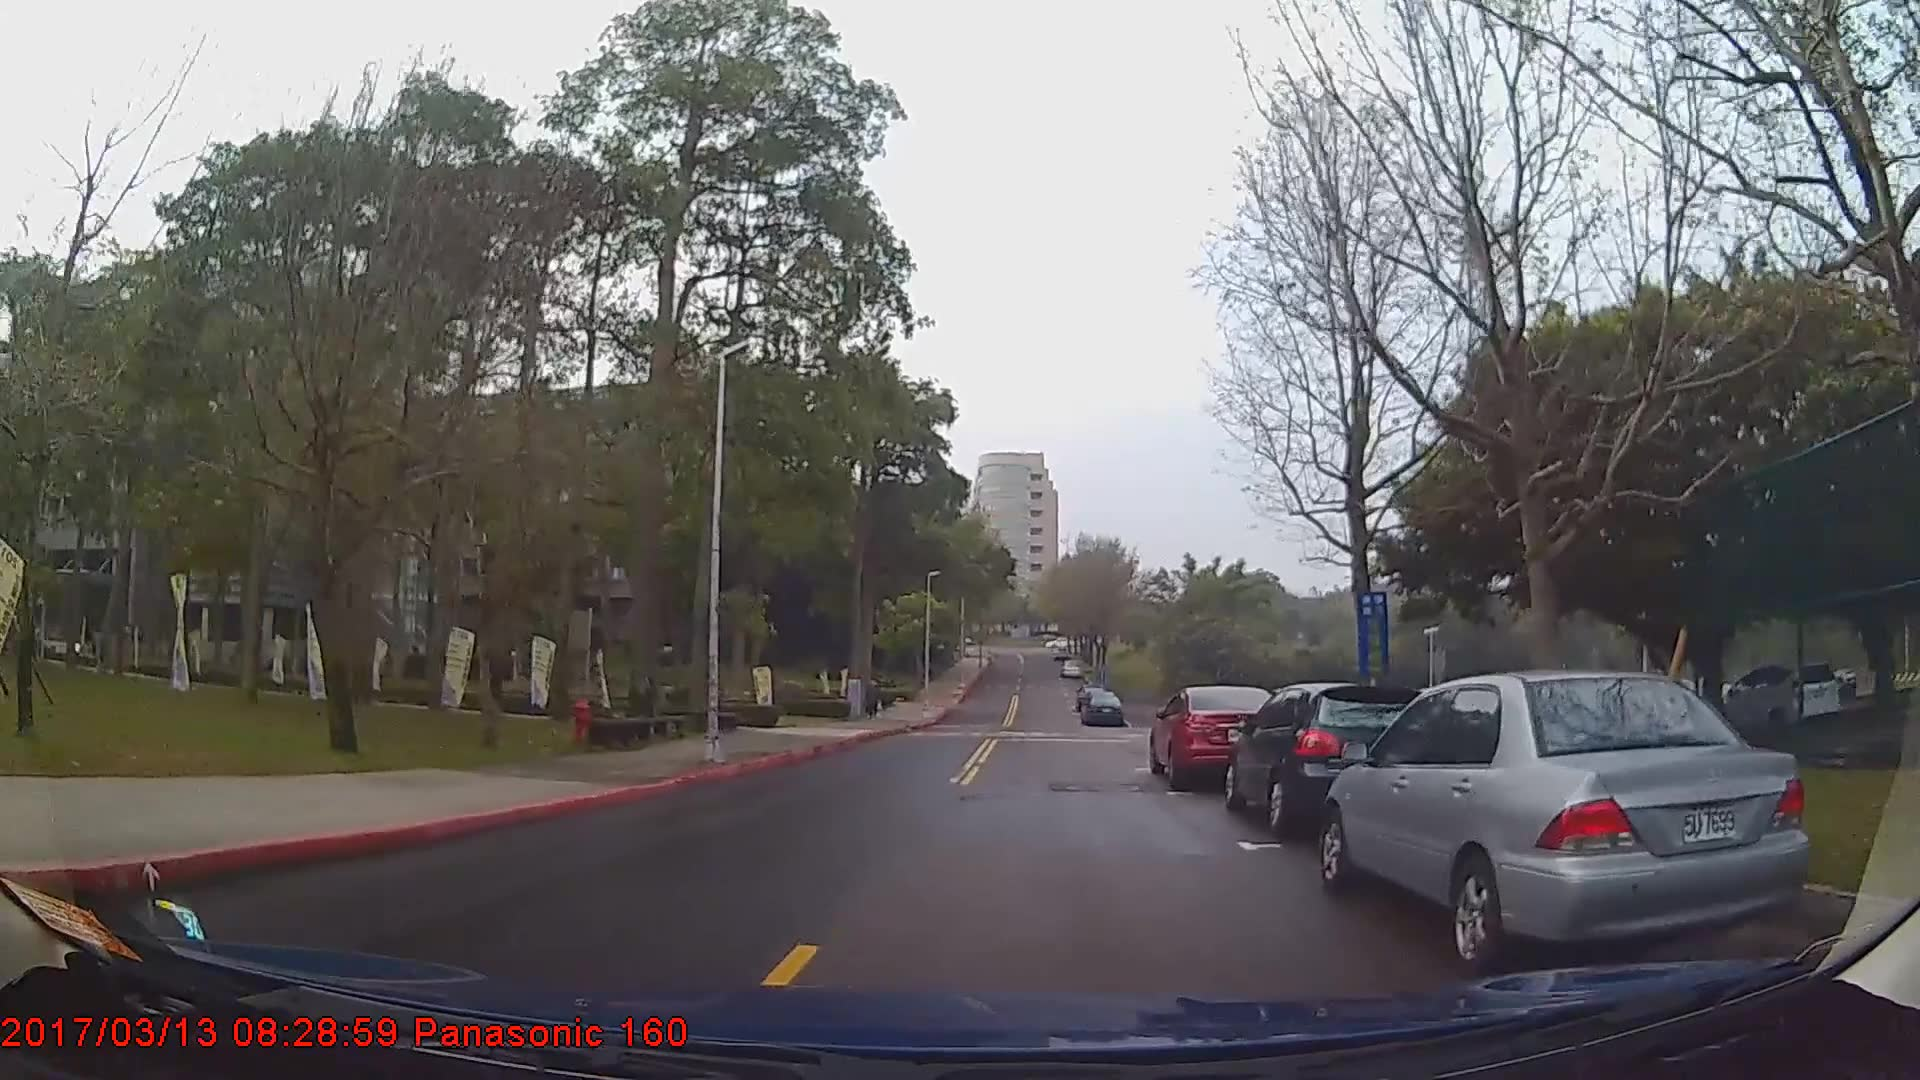vehicle: (1319, 673, 1811, 967), (1222, 676, 1437, 825), (1149, 678, 1288, 789), (1731, 659, 1842, 725), (1081, 688, 1125, 727)
